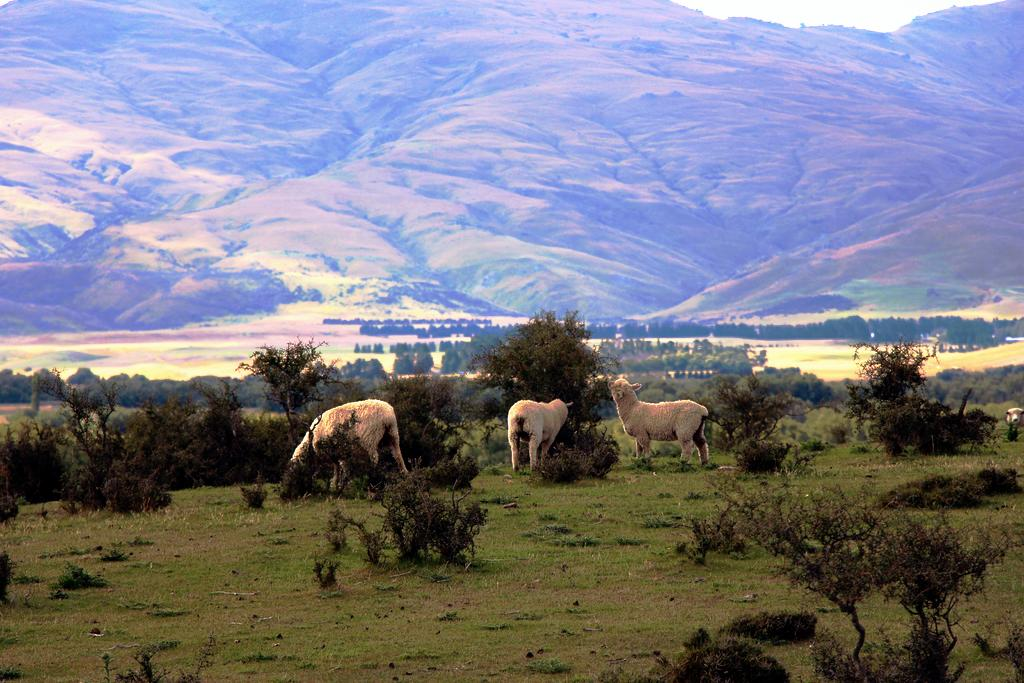Sheep: (290, 403, 408, 496), (606, 379, 719, 467), (504, 398, 576, 474)
